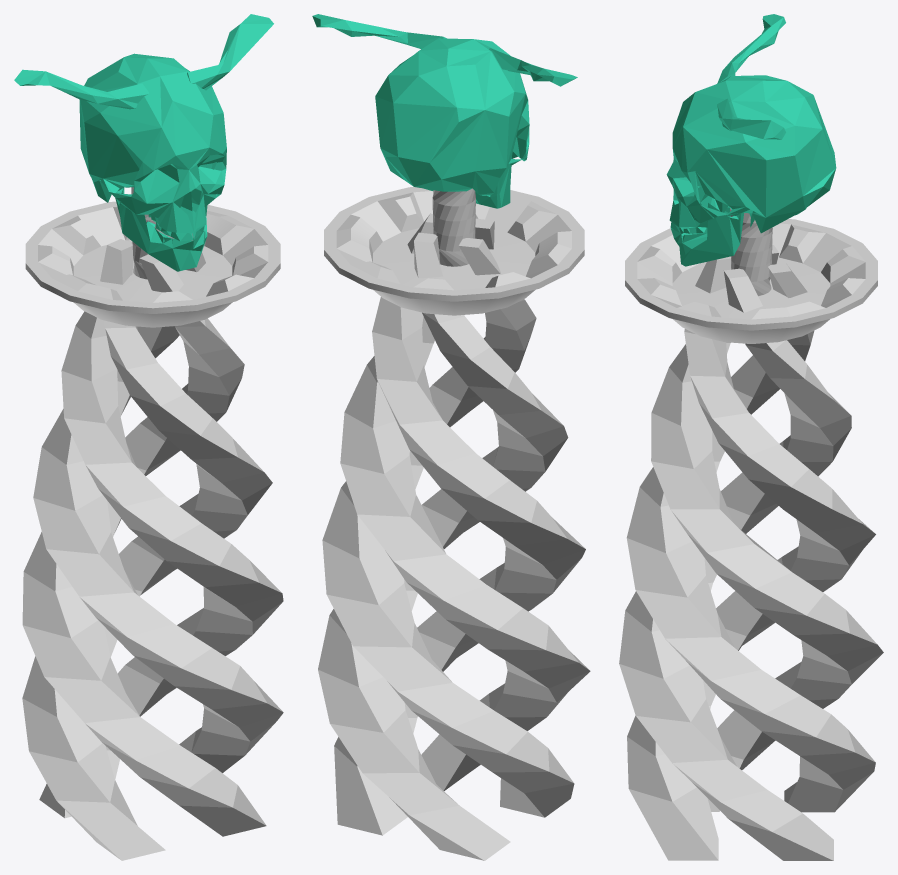
File: TowerFrost.FBX
3 views of the same model, side by side, from view 1: azimuth 30°, elevation 25°; view 2: azimuth 150°, elevation 25°; view 3: azimuth 270°, elevation 25° (orthographic). The views are drawn at different scales.
Parts seen in each view (by area): view 1: Tower003, Tower002, Tower, Tower001, Skull, towerTop, horns; view 2: Tower001, Tower002, Tower003, Tower, towerTop, Skull, horns; view 3: Tower, Tower001, Tower003, Tower002, Skull, towerTop, horns.
Boxes of the visible parts, left/top/right/bottom form: Tower003: left=22, top=254, right=266, bottom=836; Tower002: left=22, top=239, right=272, bottom=860; Tower: left=33, top=252, right=283, bottom=772; Tower001: left=39, top=242, right=283, bottom=818; Skull: left=79, top=53, right=226, bottom=271; towerTop: left=25, top=187, right=280, bottom=327; horns: left=14, top=14, right=273, bottom=109; Tower001: left=318, top=232, right=568, bottom=860; Tower002: left=322, top=238, right=574, bottom=817; Tower003: left=340, top=218, right=590, bottom=790; Tower: left=334, top=213, right=585, bottom=835; towerTop: left=324, top=187, right=584, bottom=315; Skull: left=375, top=38, right=529, bottom=208; horns: left=312, top=14, right=577, bottom=86; Tower: left=619, top=268, right=851, bottom=860; Tower001: left=626, top=263, right=875, bottom=812; Tower003: left=627, top=256, right=875, bottom=860; Tower002: left=651, top=245, right=883, bottom=811; Skull: left=666, top=75, right=836, bottom=266; towerTop: left=625, top=208, right=877, bottom=343; horns: left=717, top=14, right=785, bottom=139.
Size of the model in its own units: 869 by 2471 by 787.
